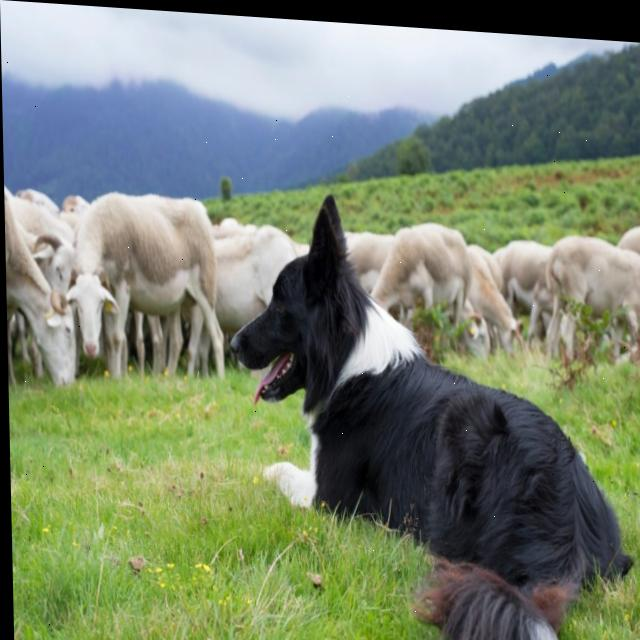BORDER_COLLIE: (219, 174, 639, 640)
